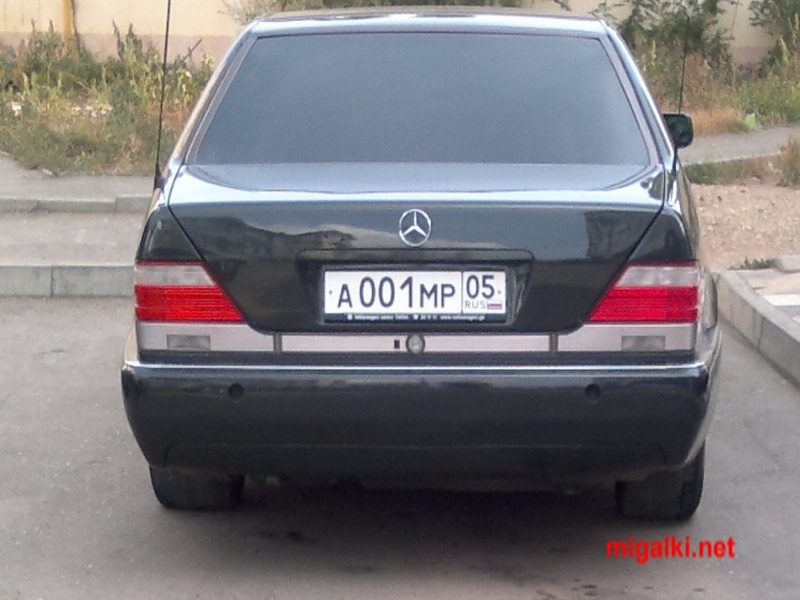car: (119, 8, 723, 520)
plate: (326, 271, 505, 313)
